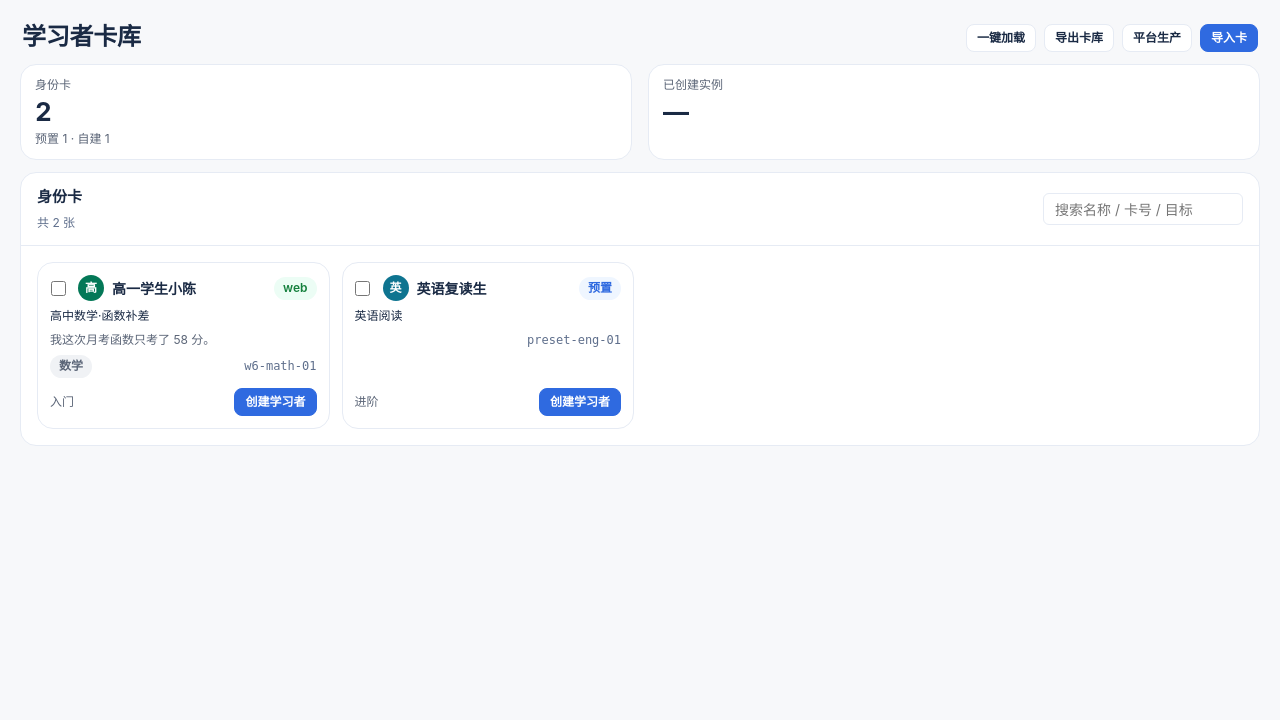
学习者卡库卡墙（2026-10-05 卡库改版 / 2026-10-06 二级页化） › 创建部分失败：逐卡点名原因留在面板内，成功的照常回刷卡墙
Click the checkbox named "选择 高一学生小陈" at (58, 288), box [50,281,66,296]
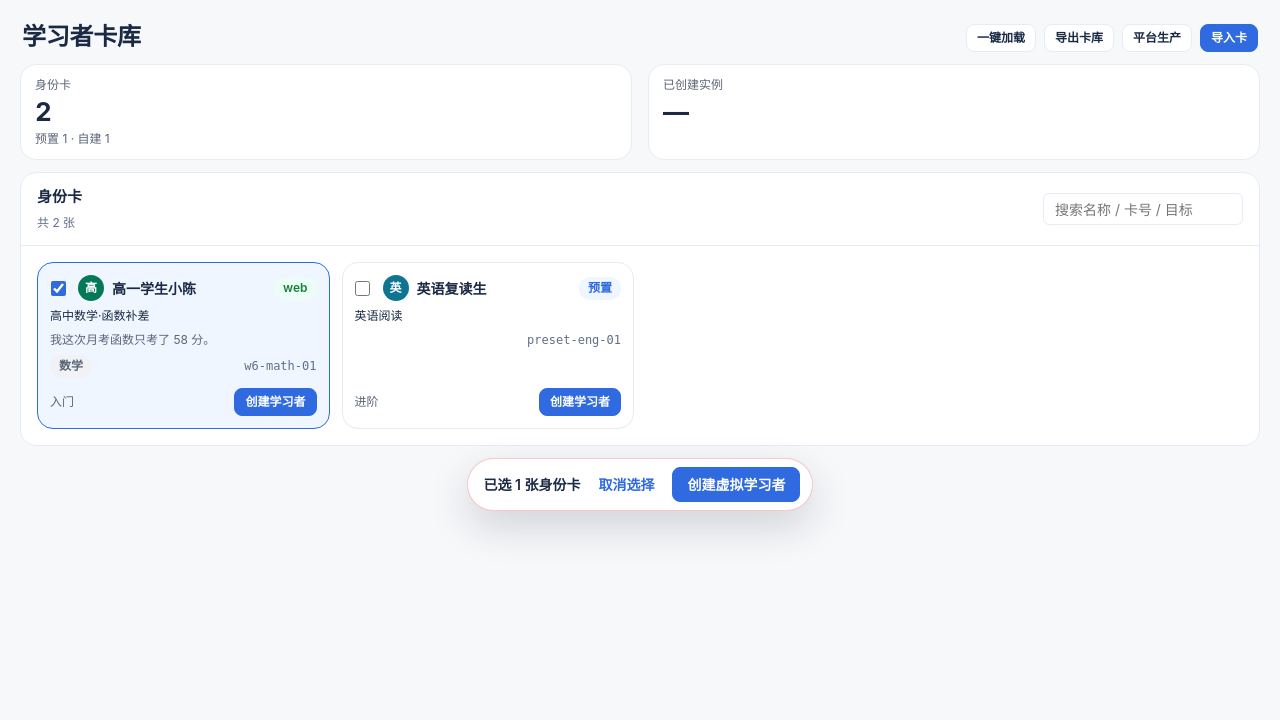
Click the checkbox named "选择 英语复读生" at (362, 288), box [355,281,370,296]
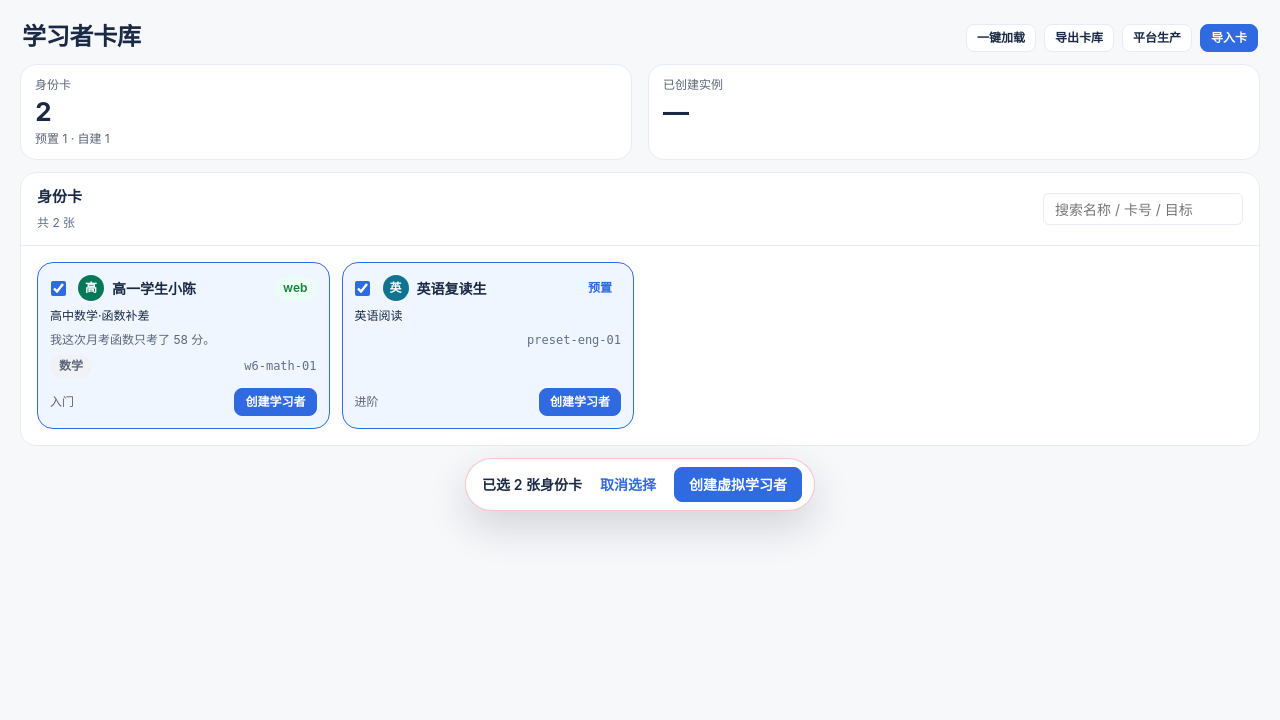
Click the button "创建虚拟学习者" at (738, 484), box [674,467,802,502]
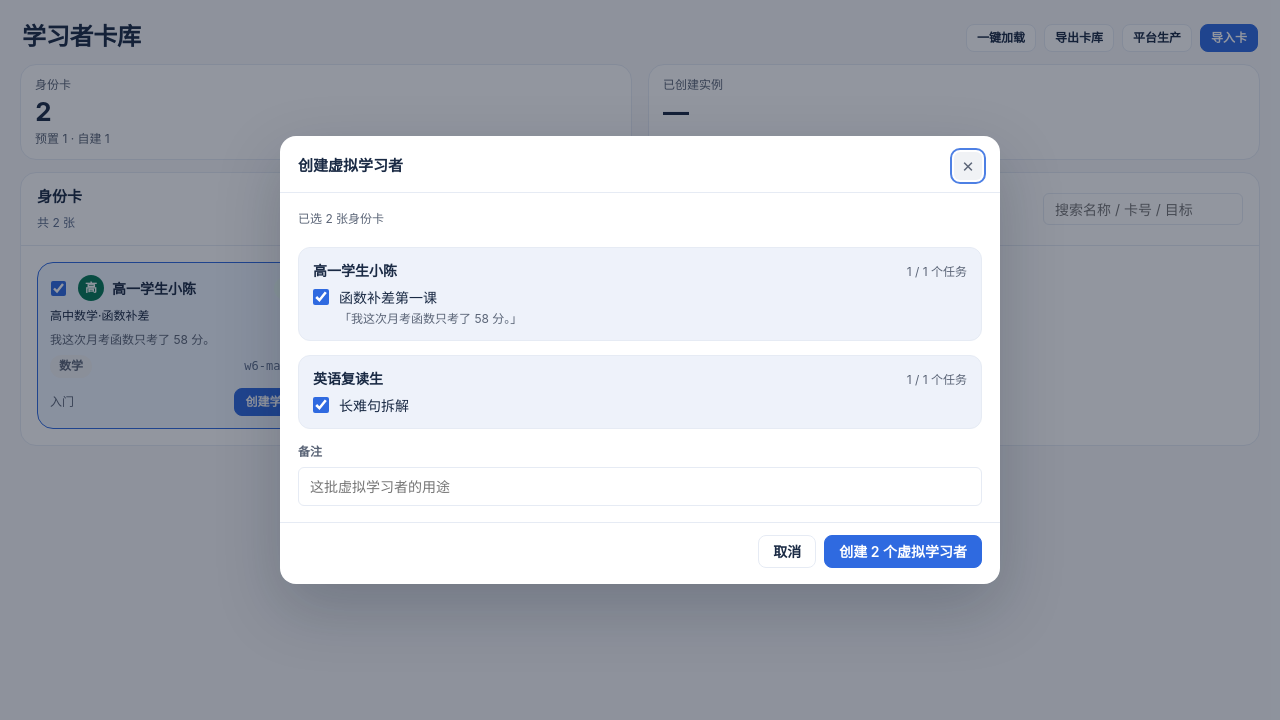
Click the button "创建 2 个虚拟学习者" at (903, 551), box [824,535,982,568]
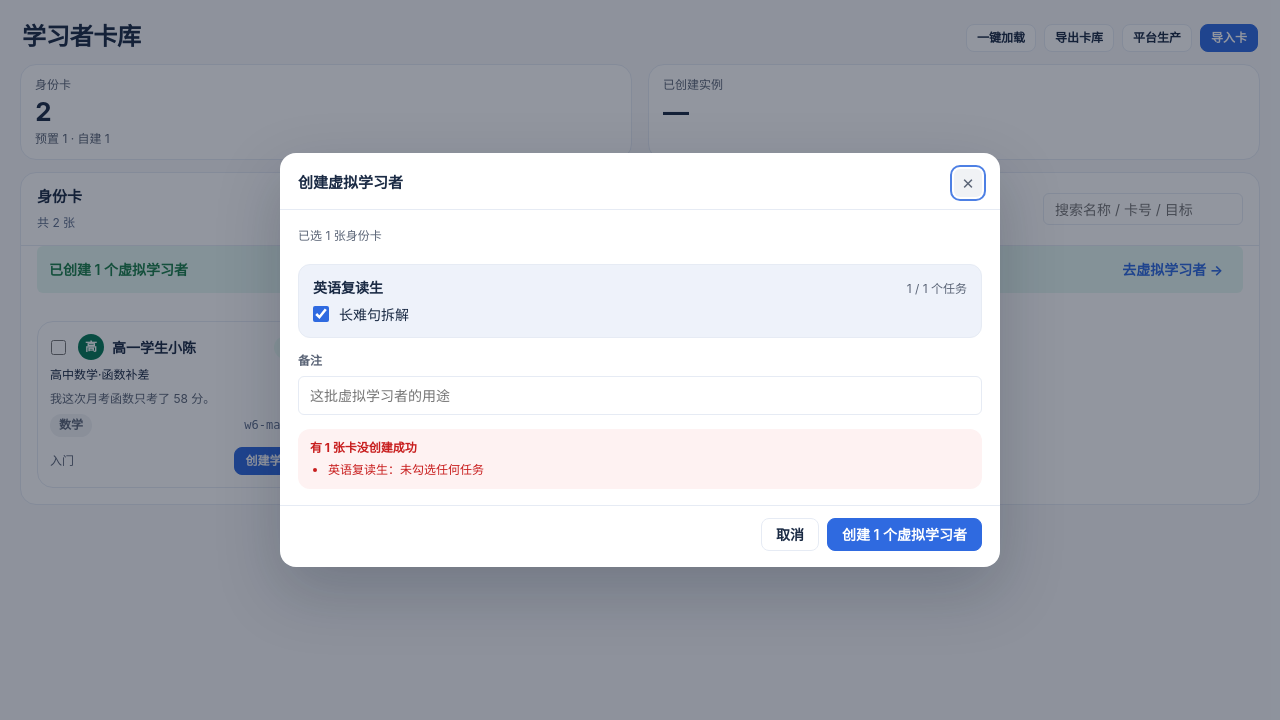
Check: the message "已创建 1 个虚拟学习者 去虚拟学习者 →" is shown, box [37,246,1243,293]
Check: the message with class "cdd-failed" shows "英语复读生", box [328,462,484,477]
Check: the message with class "cdd-failed" shows "未勾选任何任务", box [328,462,484,477]
